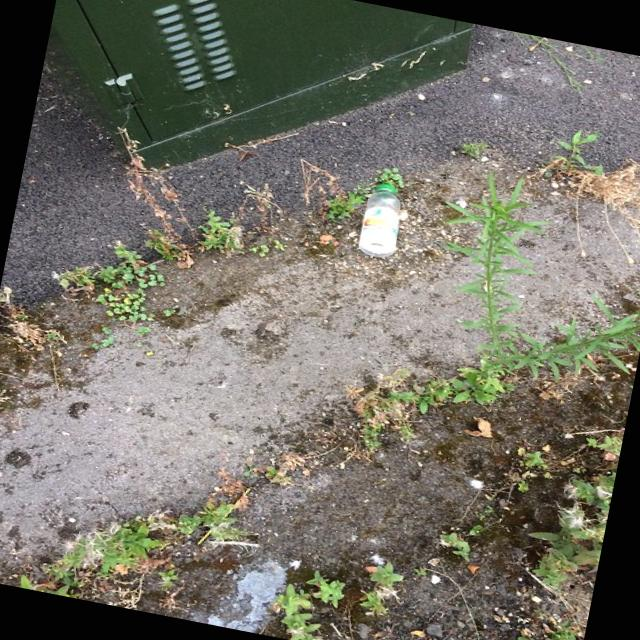Trash: (338, 168, 442, 280), (213, 537, 320, 640)
